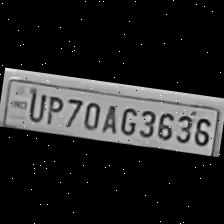0: (80, 96, 104, 130)
3: (135, 104, 157, 138), (172, 109, 193, 143)
6: (154, 106, 176, 140), (192, 112, 213, 146)
7: (61, 94, 83, 128)
A: (100, 99, 121, 133)
G: (116, 101, 139, 135)
P: (42, 90, 64, 124)
U: (23, 88, 48, 122)
